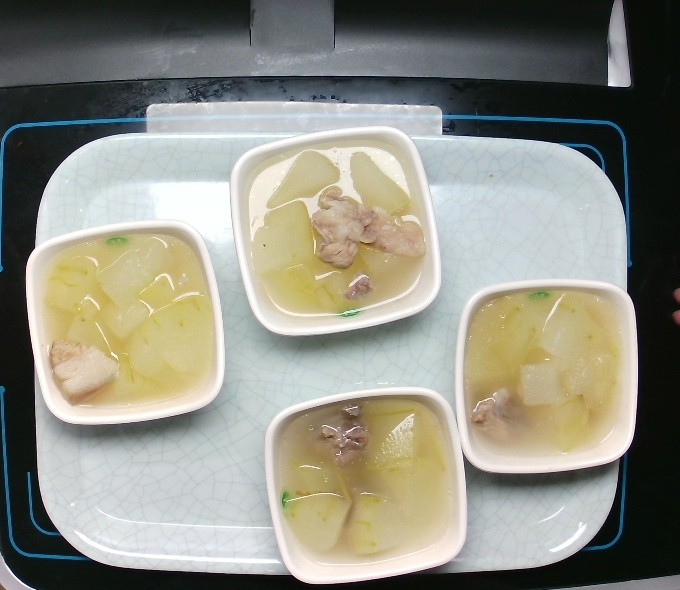wcq-DongGuaZhuRouTang: (242, 138, 426, 319), (39, 231, 215, 410), (276, 398, 452, 566), (462, 286, 625, 460)
